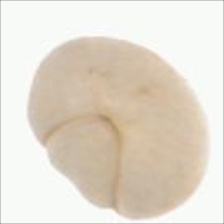L5: (39, 112, 122, 215)
L6: (25, 35, 212, 220)
